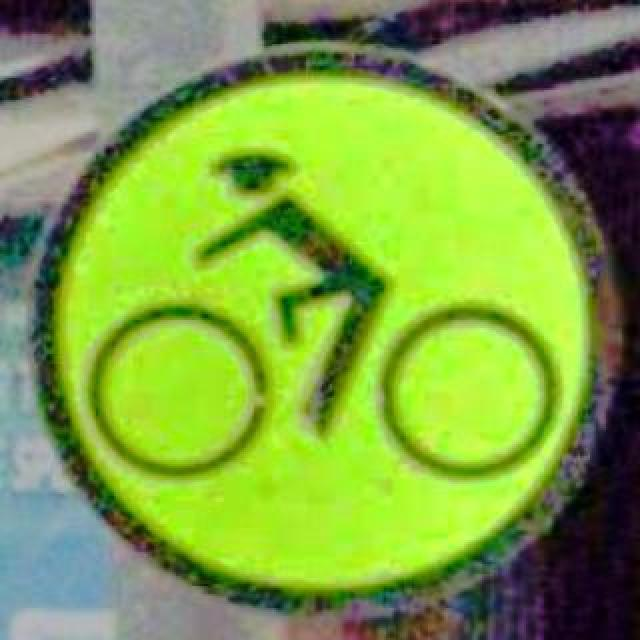bike lane: (24, 42, 624, 608)
